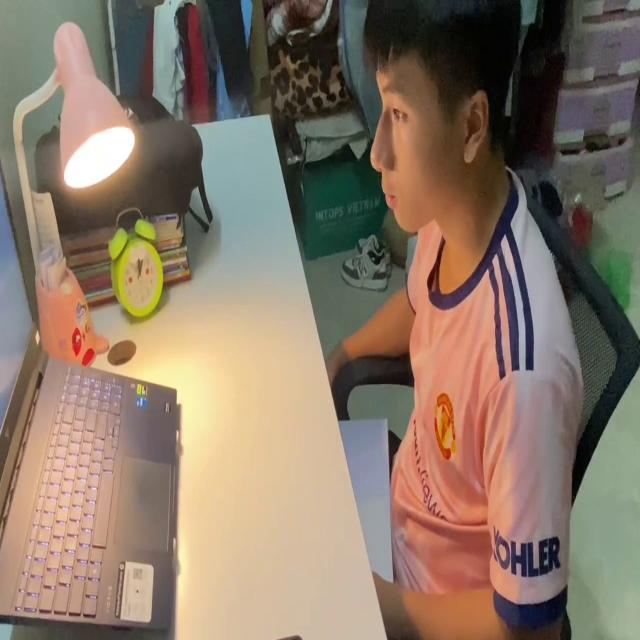book: (341, 407, 396, 593)
laptop: (0, 150, 180, 640)
student: (309, 0, 584, 640)
